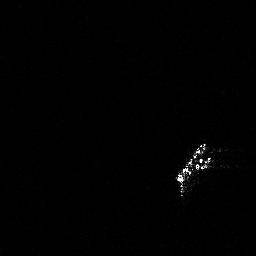ship: (172, 140, 216, 199)
